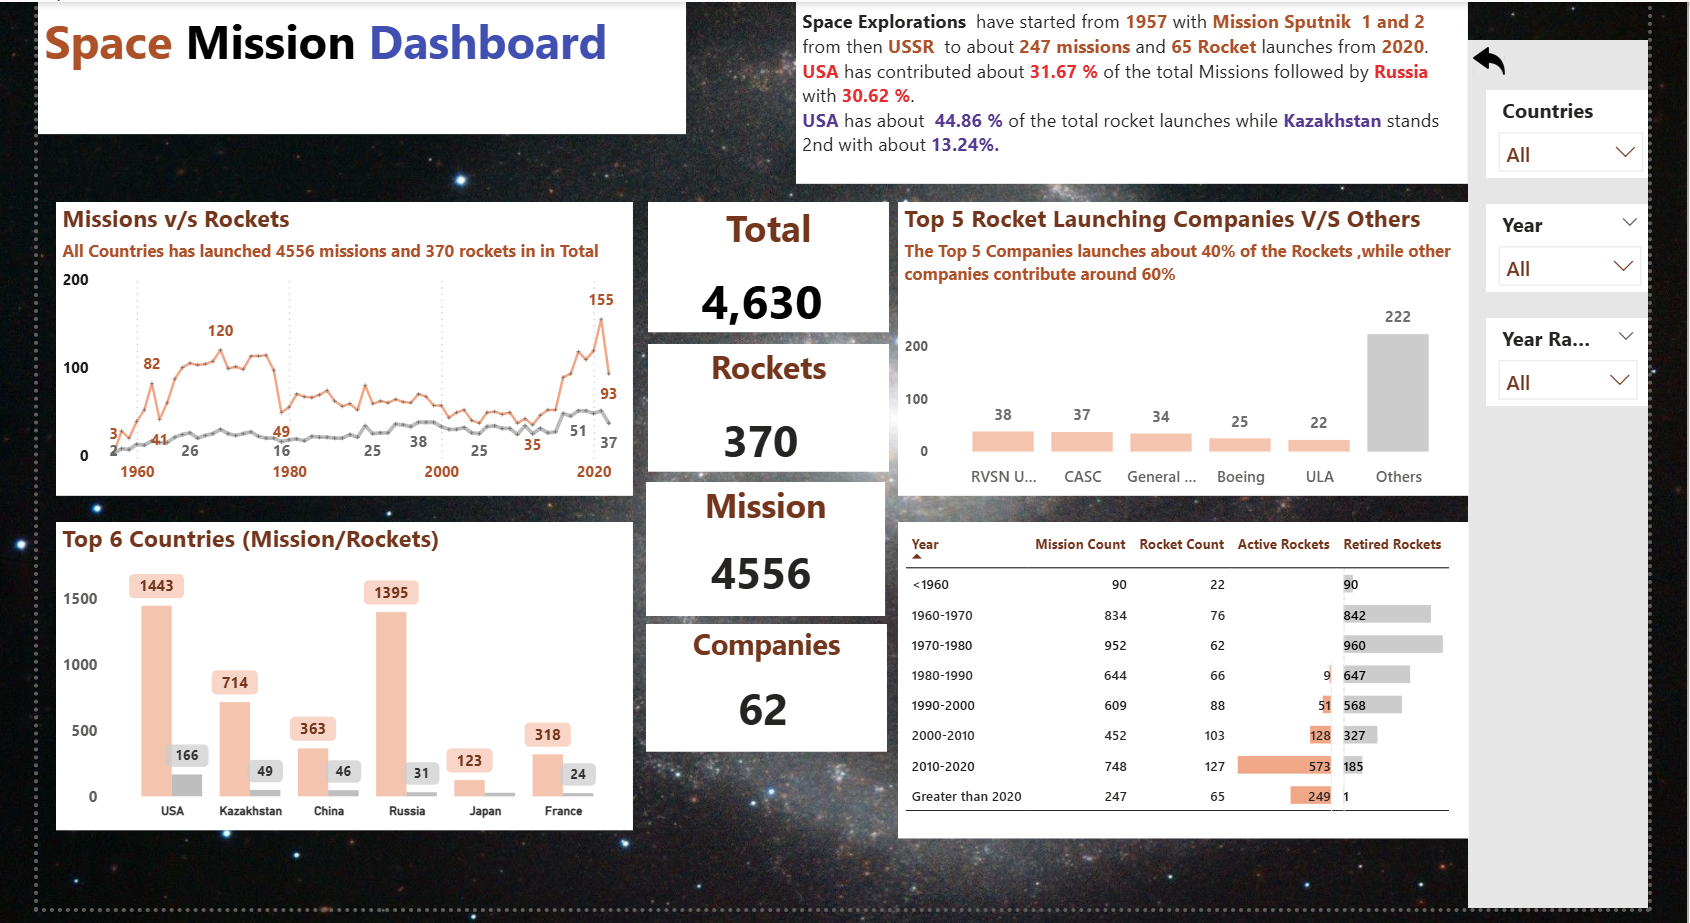

This screenshot's page, from the dashboard's own definition file:
{"tool":"powerbi","page":{"name":"Space Dashboard","canvas":[1280,720],"ordinal":0},"visuals":[{"type":"kpi","title":"Total ","fields":{"Indicator":["space_missions.Total Rows"]},"box":[484,158.3,191.7,103.3],"z":1000},{"type":"cardVisual","fields":{"Data":["space_missions.Total Rows"]},"box":[486.7,195,183.3,66.7],"z":2000},{"type":"kpi","title":"Rockets","fields":{"Indicator":["space_missions.Total Rows"]},"box":[484,271,191.7,101.7],"z":3000},{"type":"kpi","title":"Mission","fields":{"Indicator":["space_missions.Total Rows"]},"box":[483.3,382,190,106.7],"z":4000},{"type":"cardVisual","fields":{"Data":["space_missions.Total Mission"]},"box":[481.7,413.3,191.7,75],"z":5000},{"type":"cardVisual","fields":{"Data":["space_missions.Total Rockets"]},"box":[481.7,308.3,190,65],"z":6000},{"type":"textbox","box":[0,0,515,105],"z":7000},{"type":"kpi","title":"Companies","fields":{"Indicator":["space_missions.Total Rows"]},"box":[483.3,495,191.7,101.7],"z":9000},{"type":"cardVisual","fields":{"Data":["space_missions.Total Companies"]},"box":[483.3,521.7,191.7,75],"z":10000},{"type":"clusteredColumnChart","title":"Top 5 Rocket Launching Companies V/S Others","fields":{"Category":["PsuedoCompany Table.Company"],"Y":["space_missions.Top5 Company Rocket"]},"box":[684,158.3,453.3,233.3],"z":13000},{"type":"lineClusteredColumnComboChart","title":"Top 6 Countries (Mission/Rockets)","fields":{"Category":["Countries.Countries"],"Y":["space_missions.Top5Countries By Mission","space_missions.Top5Rockets by Countries"]},"box":[15,413.3,458.3,245],"z":14000},{"type":"lineChart","title":"Missions v/s Rockets ","fields":{"Y":["space_missions.Total Mission","space_missions.Total Rockets"],"Category":["space_missions.Date.Variation.Date Hierarchy.Year","space_missions.Date.Variation.Date Hierarchy.Quarter"]},"box":[15,158.3,458.3,233.3],"z":15000},{"type":"tableEx","fields":{"Values":["space_missions.SwitchDate","space_missions.Total Mission","space_missions.Total Rockets","space_missions.RocketStats","space_missions.RetiredRocketStat"]},"box":[684,413.3,453.3,251.7],"z":16000},{"type":"actionButton","box":[1180,105,100,40],"z":19000},{"type":"actionButton","box":[1180,170,100,40],"z":20000},{"type":"actionButton","box":[1136.7,30,81.7,33.3],"z":21000},{"type":"textbox","box":[602.4,0,534,144.6],"z":22000},{"type":"actionButton","box":[1179.3,235.2,100.1,39.7],"z":22001}]}

Visuals, with their boxes on the page's 1280x720 design canvas (x1, y1, x2, y2). These are canvas units, not pixel positions in the 1690x923 screenshot, which may show the page scaled, cropped or inside an application window:
"Total " kpi: left=484, top=158, right=676, bottom=262
cardVisual - space_missions.Total Rows: left=487, top=195, right=670, bottom=262
"Rockets" kpi: left=484, top=271, right=676, bottom=373
"Mission" kpi: left=483, top=382, right=673, bottom=489
cardVisual - space_missions.Total Mission: left=482, top=413, right=673, bottom=488
cardVisual - space_missions.Total Rockets: left=482, top=308, right=672, bottom=373
textbox: left=0, top=0, right=515, bottom=105
"Companies" kpi: left=483, top=495, right=675, bottom=597
cardVisual - space_missions.Total Companies: left=483, top=522, right=675, bottom=597
"Top 5 Rocket Launching Companies V/S Others" clusteredColumnChart: left=684, top=158, right=1137, bottom=392
"Top 6 Countries (Mission/Rockets)" lineClusteredColumnComboChart: left=15, top=413, right=473, bottom=658
"Missions v/s Rockets " lineChart: left=15, top=158, right=473, bottom=392
tableEx - space_missions.SwitchDate x space_missions.Total Mission: left=684, top=413, right=1137, bottom=665
actionButton: left=1180, top=105, right=1280, bottom=145
actionButton: left=1180, top=170, right=1280, bottom=210
actionButton: left=1137, top=30, right=1218, bottom=63
textbox: left=602, top=0, right=1136, bottom=145
actionButton: left=1179, top=235, right=1279, bottom=275
